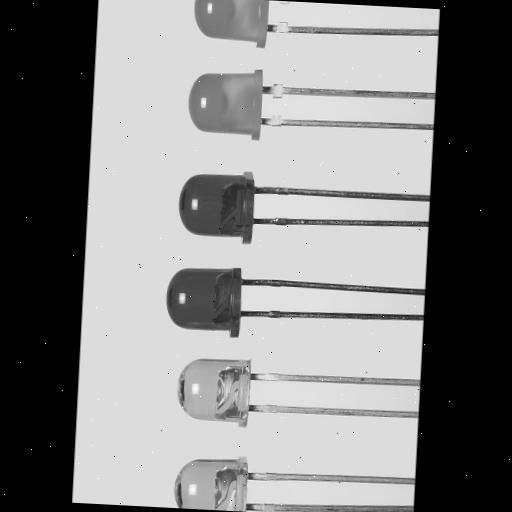LED: (172, 153, 287, 274), (150, 244, 274, 356), (164, 335, 284, 433), (184, 58, 288, 152), (162, 439, 276, 512), (191, 0, 285, 50)
